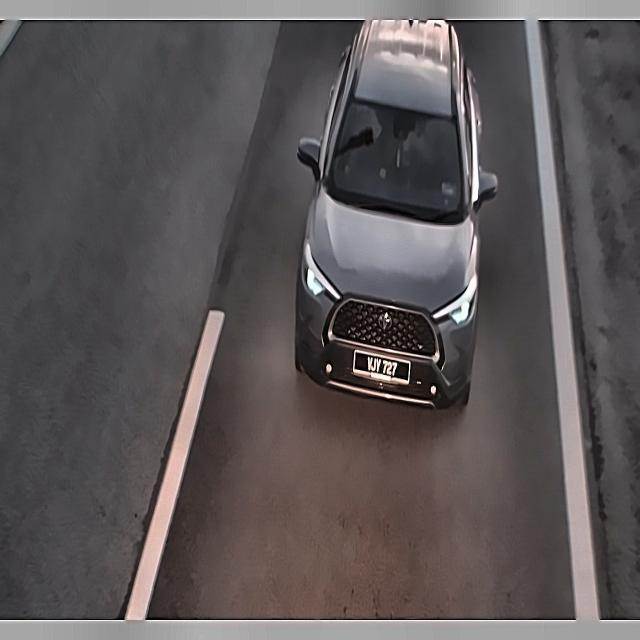car: (352, 343, 416, 393)
